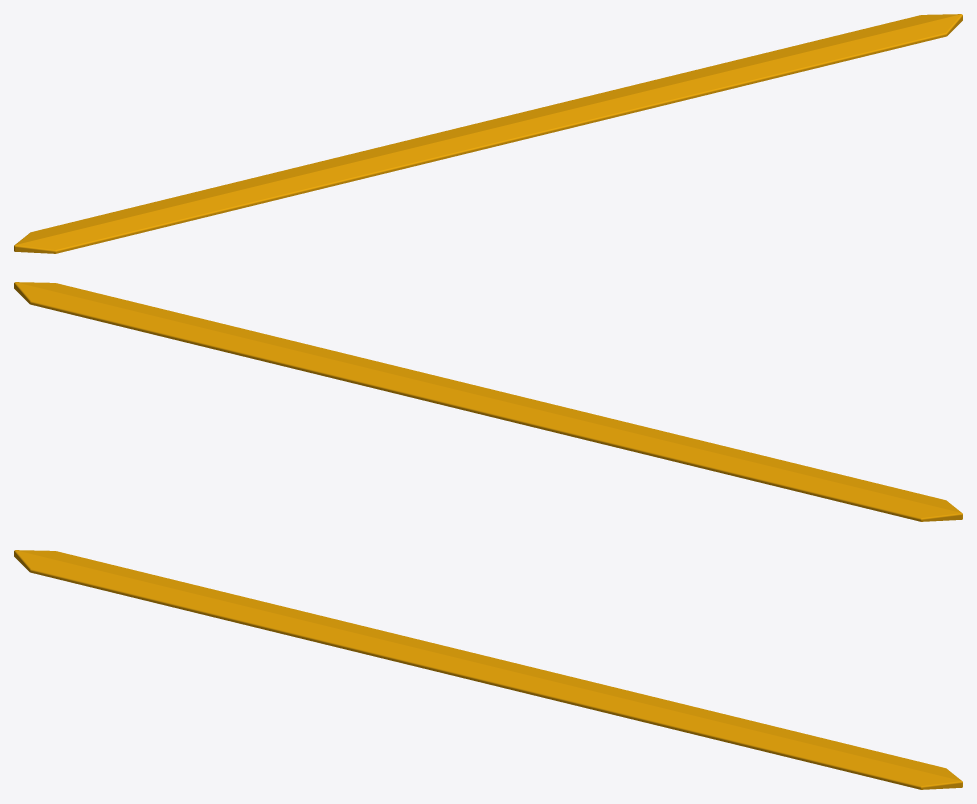
Rendered from Brightnote.glb.
The picture shows the model from 3 angles, top to bottom: view 1: azimuth 30°, elevation 25°; view 2: azimuth 150°, elevation 25°; view 3: azimuth 330°, elevation 25°; orthographic projection.
Parts seen in each view (by area): view 1: NoteBase; view 2: NoteBase; view 3: NoteBase.
Boxes of the visible parts, x1,y1,x2,y2 form: NoteBase: (14,14,962,253); NoteBase: (14,282,962,521); NoteBase: (14,550,962,789).
Size of the model in its own units: 15.97 by 0.0998 by 0.75.
Materials: 1 (1 with a texture image).
